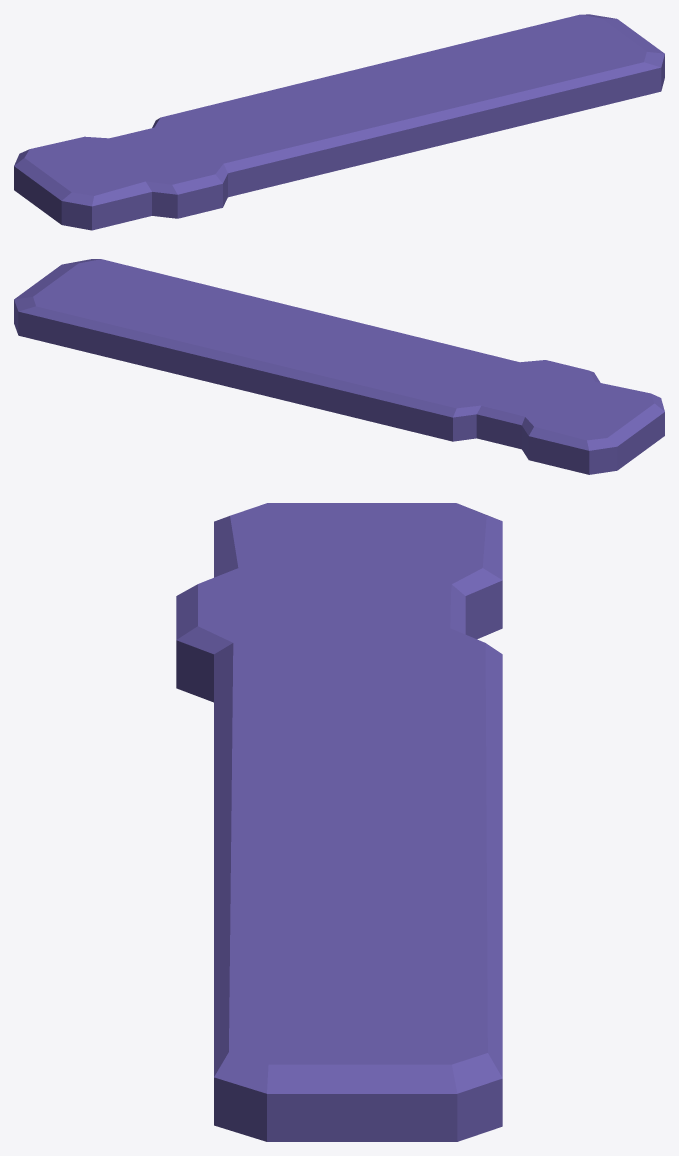
Rendered from Block01.fbx.
3 renders of one model, top to bottom at view 1: azimuth 30°, elevation 25°; view 2: azimuth 150°, elevation 25°; view 3: azimuth 270°, elevation 25°, orthographic. The views are drawn at different scales.
Parts seen in each view (by area): view 1: pCube1; view 2: pCube1; view 3: pCube1.
Part boxes in pixels (bbox=[...]): pCube1: bbox=[14, 14, 664, 230]; pCube1: bbox=[14, 259, 664, 474]; pCube1: bbox=[176, 503, 502, 1141].
Size of the model in its own units: 31.35 by 1.49 by 7.35.
